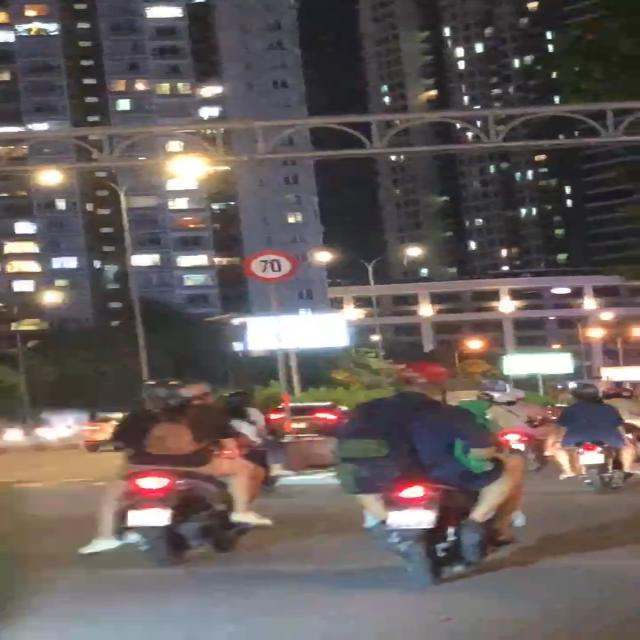Bien bao toc do toi da cho phep: (241, 248, 301, 284)
